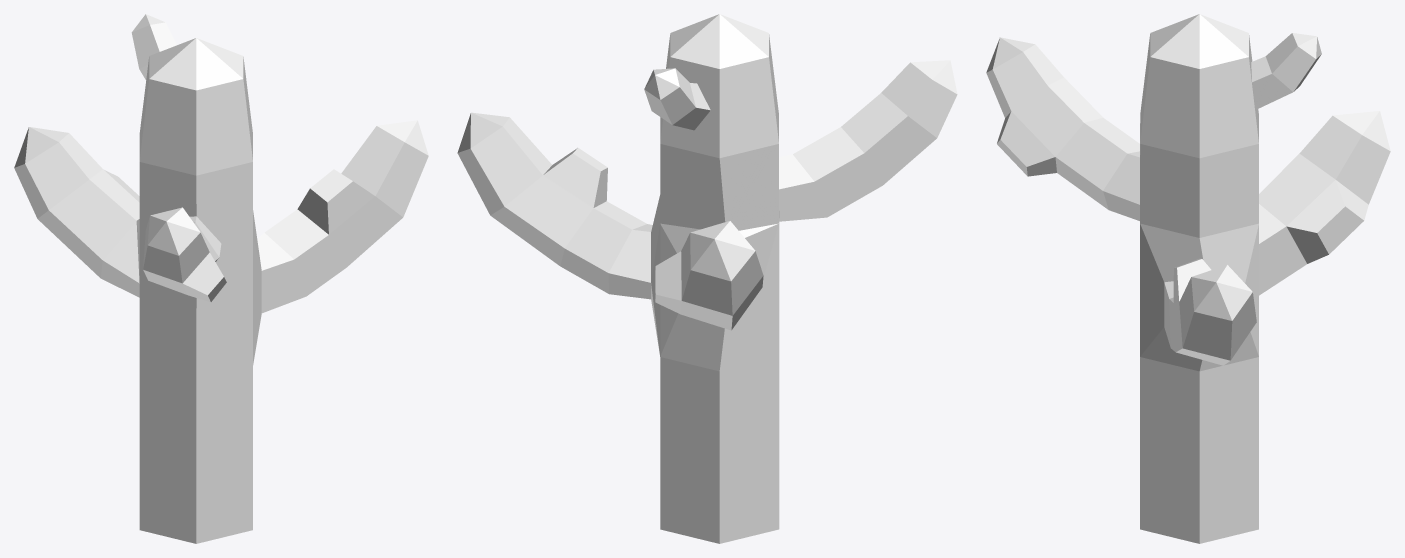
File: SM_Prop_Coral_03.glb
3 views of the same model, side by side, from view 1: azimuth 30°, elevation 25°; view 2: azimuth 150°, elevation 25°; view 3: azimuth 270°, elevation 25° (orthographic). The views are drawn at different scales.
Visible parts, largest first — view 1: SM_Prop_Coral_03; view 2: SM_Prop_Coral_03; view 3: SM_Prop_Coral_03.
Part boxes in pixels (box(x1,y1,x2,y2)): SM_Prop_Coral_03: box(14, 14, 428, 543); SM_Prop_Coral_03: box(457, 14, 957, 543); SM_Prop_Coral_03: box(986, 14, 1390, 543).
Size of the model in its own units: 0.2081 by 0.2552 by 0.1868.
1 material, 1 textured.
